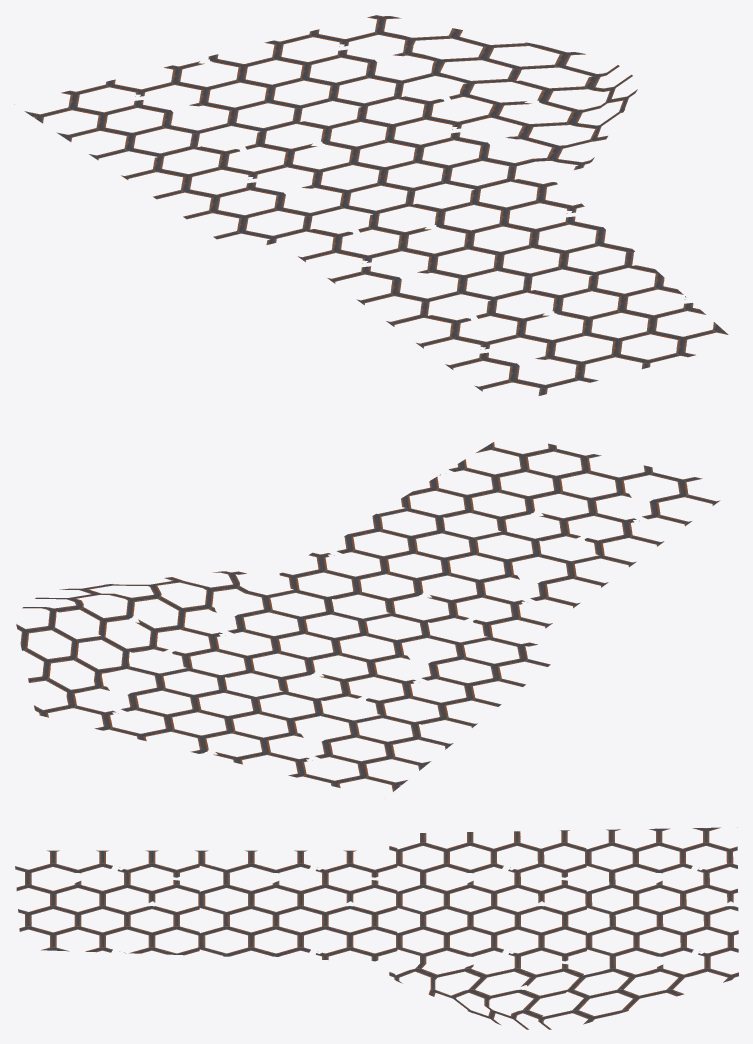
Rendered from huoshan_wujian04a.fbx.
The picture shows the model from 3 angles, top to bottom: view 1: azimuth 30°, elevation 25°; view 2: azimuth 150°, elevation 25°; view 3: azimuth 270°, elevation 25°; orthographic projection. The views are drawn at different scales.
Parts seen in each view (by area): view 1: huoshan_wujian04a; view 2: huoshan_wujian04a; view 3: huoshan_wujian04a.
Part boxes in pixels (x1=…): huoshan_wujian04a: x1=14, y1=15, x2=728, y2=395; huoshan_wujian04a: x1=16, y1=442, x2=720, y2=791; huoshan_wujian04a: x1=15, y1=827, x2=738, y2=1029.
Bounding box in the file's own units: 0.93 × 6.16e-08 × 1.41.
Materials: 1 (1 with a texture image).
